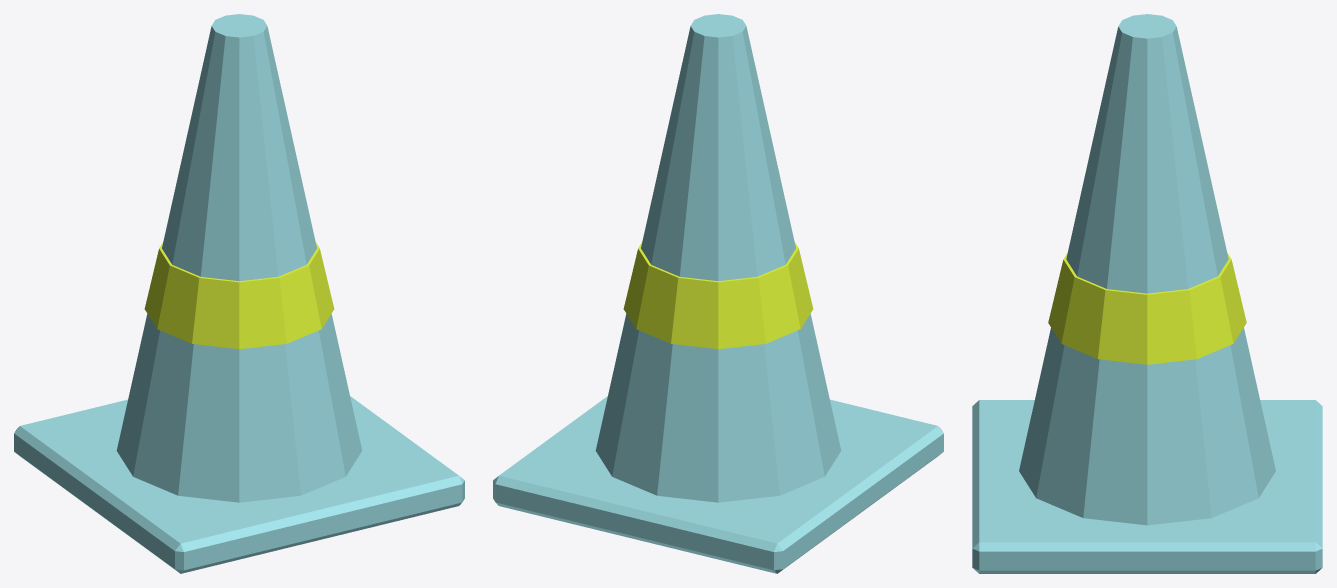
Rendered from traffic_cone.fbx.
The picture shows the model from 3 angles, left to right: view 1: azimuth 30°, elevation 25°; view 2: azimuth 150°, elevation 25°; view 3: azimuth 270°, elevation 25°; orthographic projection. The views are drawn at different scales.
Visible parts, largest first — view 1: Prop; view 2: Prop; view 3: Prop.
Part boxes in pixels (left/top/right/bottom): Prop: left=14, top=14, right=464, bottom=573; Prop: left=493, top=14, right=943, bottom=573; Prop: left=972, top=14, right=1322, bottom=573.
Size of the model in its own units: 0.3 by 0.3 by 0.45.
